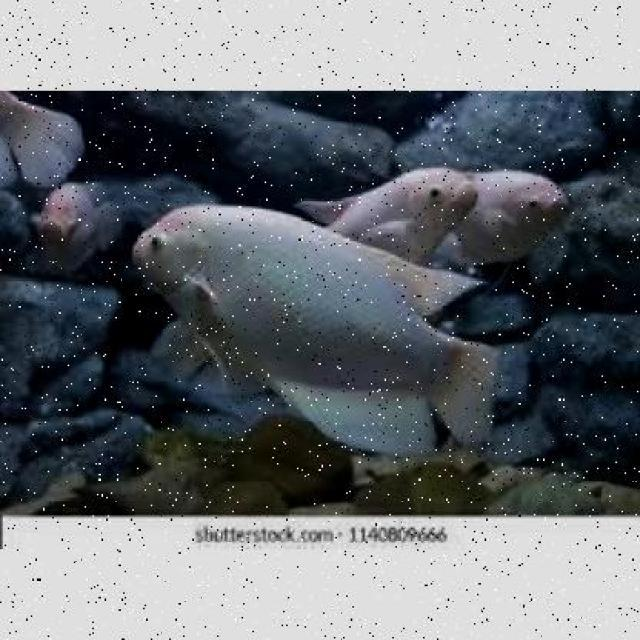gurame: (132, 205, 498, 458), (330, 163, 476, 262), (447, 152, 565, 266)
